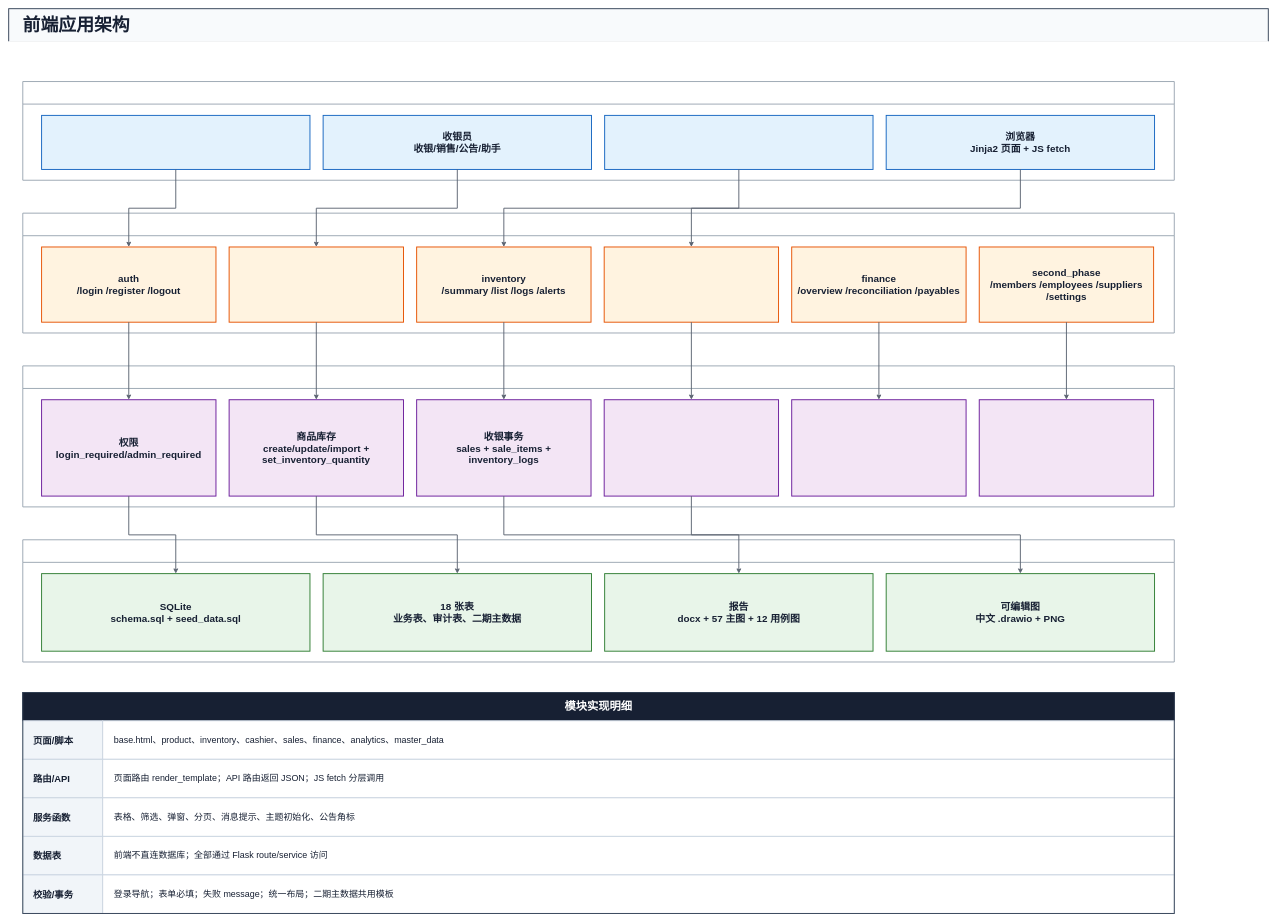
This 1277x922 diagram has some shape labels left out. The shapes that lost their labels are listed below. From the top down, each one's box as (x1, y1, x2, y2) in pixels, then its label:
(8, 41, 1269, 61): 架构图｜分层、模块、接口、数据表、权限边界
(41, 115, 310, 170): 管理员 商品/库存/财务/公告/二期主数据
(22, 81, 1175, 180): 用户与终端
(604, 115, 873, 170): 店长/财务 分析/对账/验收
(228, 246, 404, 322): product /api/products /import /categories
(22, 212, 1175, 333): Flask 路由层
(603, 246, 779, 322): cashier/sales /checkout /orders /detail
(22, 365, 1175, 507): 服务与业务规则
(603, 399, 779, 496): 财务事务 transactions + reconciliation + payables
(791, 399, 966, 496): 智能助手 本地规则 + 可选 LLM 降级
(979, 399, 1154, 496): 测试 pytest + coverage 100%
(22, 539, 1175, 662): 数据与交付
